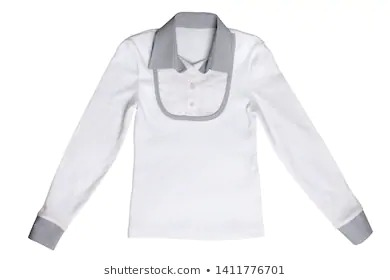S_blouse: (31, 22, 375, 257)
